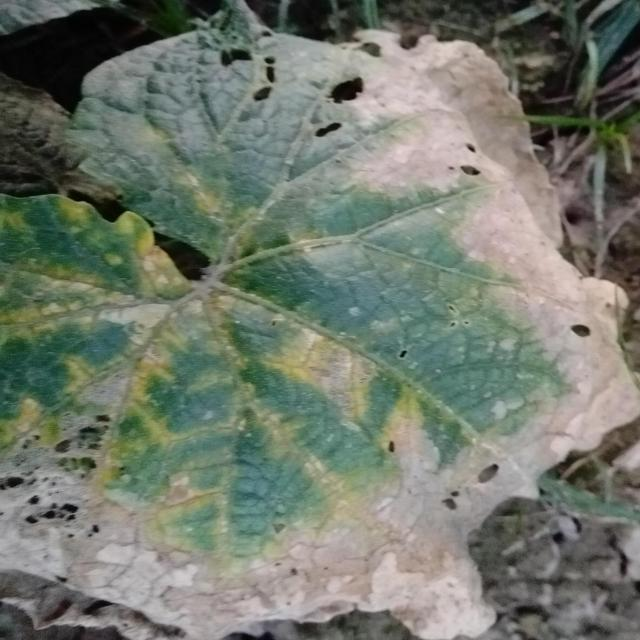cucumber_anthracnose: (8, 18, 632, 625)
